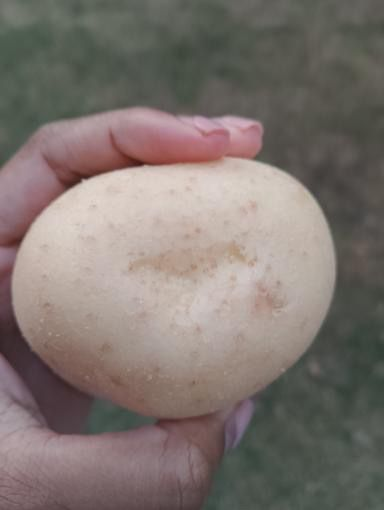potato: (14, 150, 348, 423)
